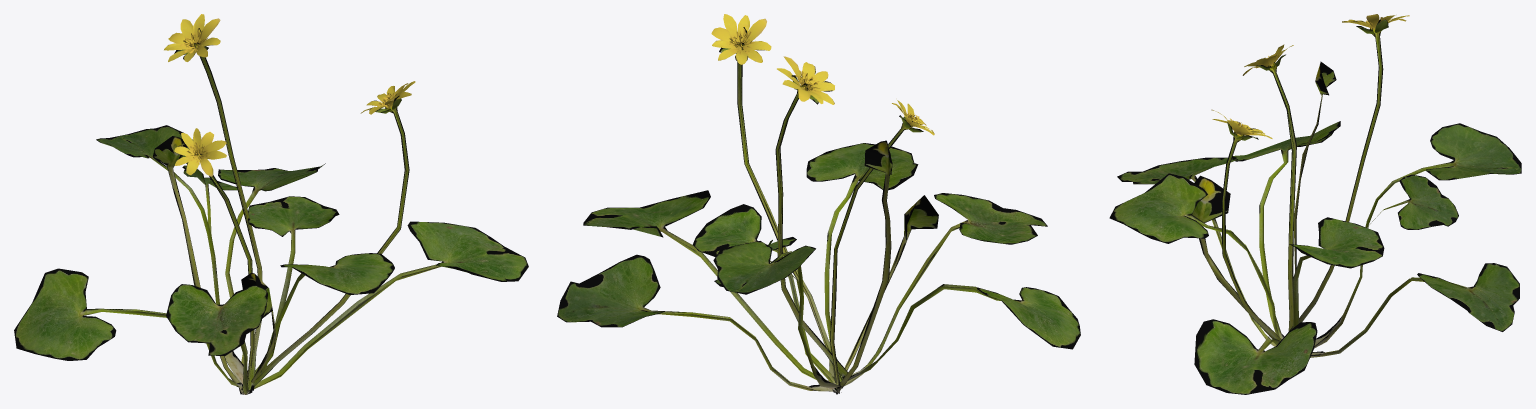
Rendered from celandine_01_2.gltf.
The picture shows the model from 3 angles, left to right: view 1: azimuth 30°, elevation 25°; view 2: azimuth 150°, elevation 25°; view 3: azimuth 270°, elevation 25°; orthographic projection. The views are drawn at different scales.
Visible parts, largest first — view 1: celandine_01_c_LOD0; view 2: celandine_01_c_LOD0; view 3: celandine_01_c_LOD0.
Part boxes in pixels (bbox=[...]): celandine_01_c_LOD0: bbox=[14, 14, 528, 394]; celandine_01_c_LOD0: bbox=[557, 14, 1080, 394]; celandine_01_c_LOD0: bbox=[1109, 14, 1521, 394].
Bounding box in the file's own units: 0.2571 × 0.1759 × 0.1864.
Materials: 1 (1 with a texture image).
